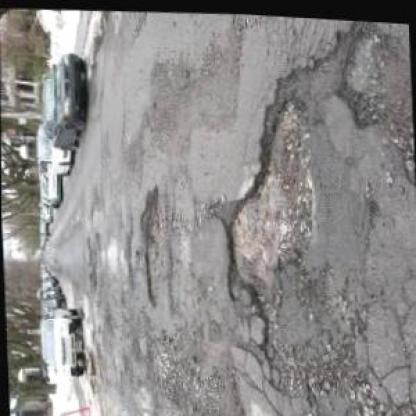pothole: (212, 82, 318, 324), (336, 19, 392, 129), (140, 186, 171, 309)
